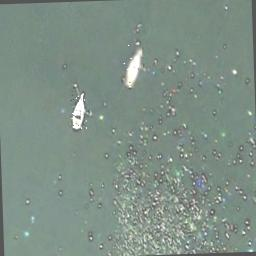boat: (124, 44, 144, 88), (70, 89, 88, 130)
